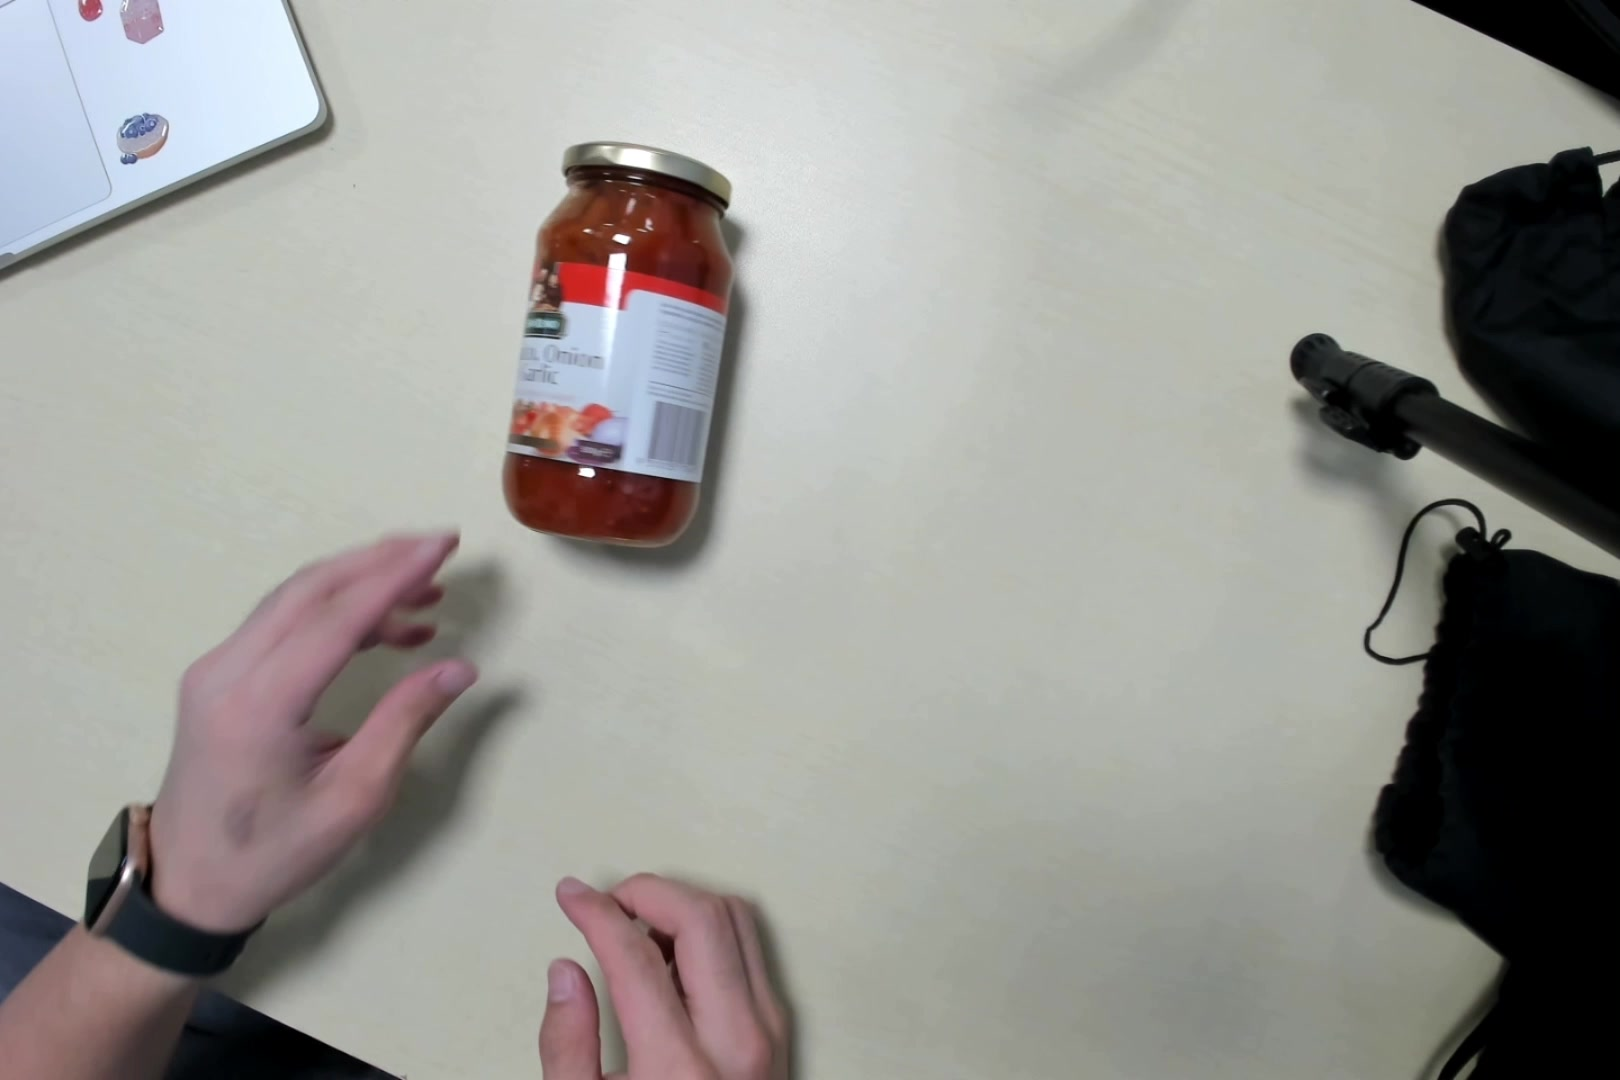PastaSauce_500-599g_NonHalal_NonHealthy: (503, 133, 745, 559)
